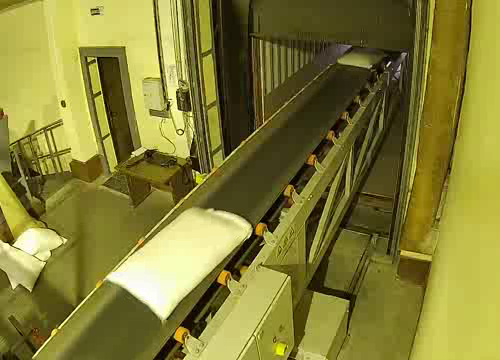bag: (105, 206, 257, 320), (338, 44, 389, 70)
